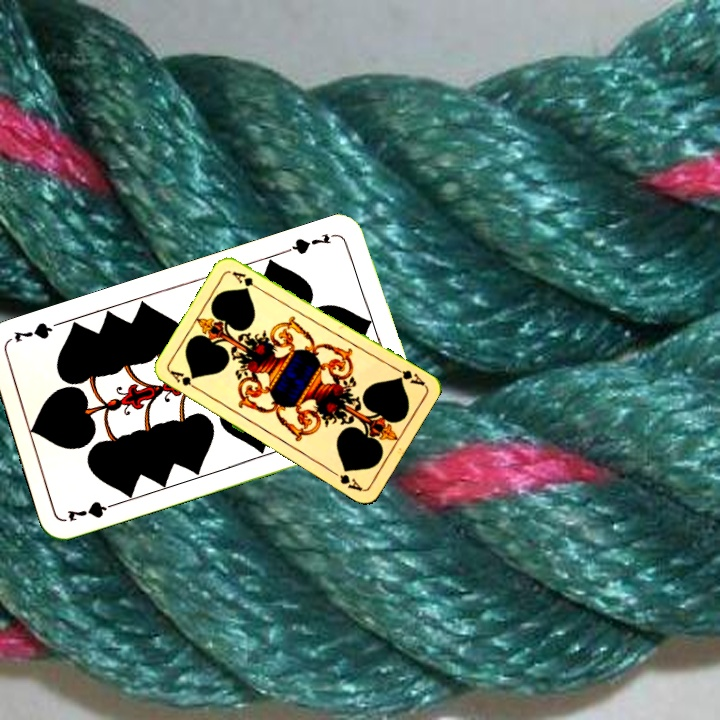G7: (283, 229, 340, 257), (63, 497, 122, 524)
GA: (389, 363, 428, 389), (166, 367, 203, 394)
